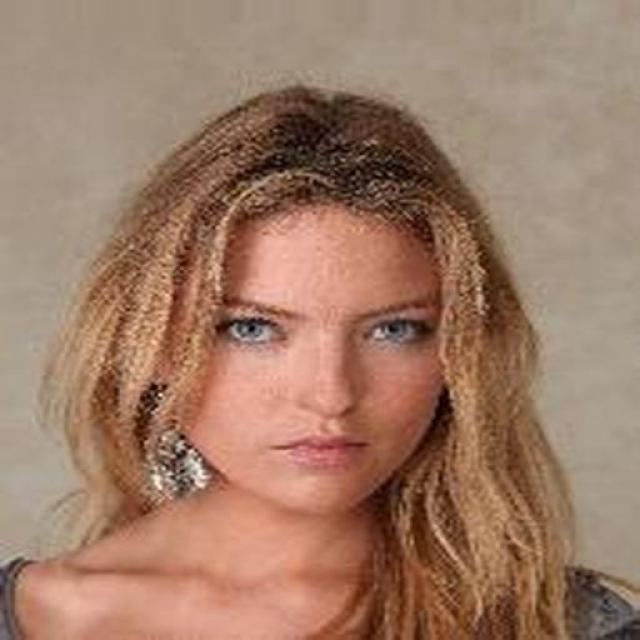bareface: (190, 222, 480, 516)
